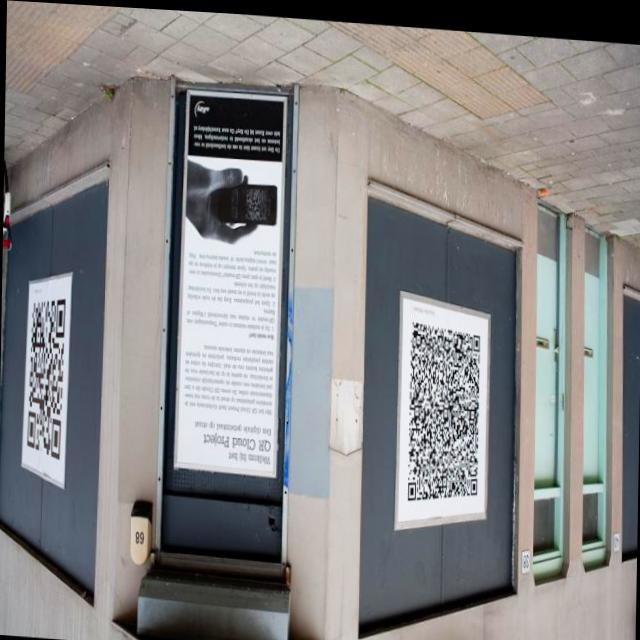qrcode: (408, 317, 480, 500), (27, 296, 66, 459), (246, 184, 267, 215)
